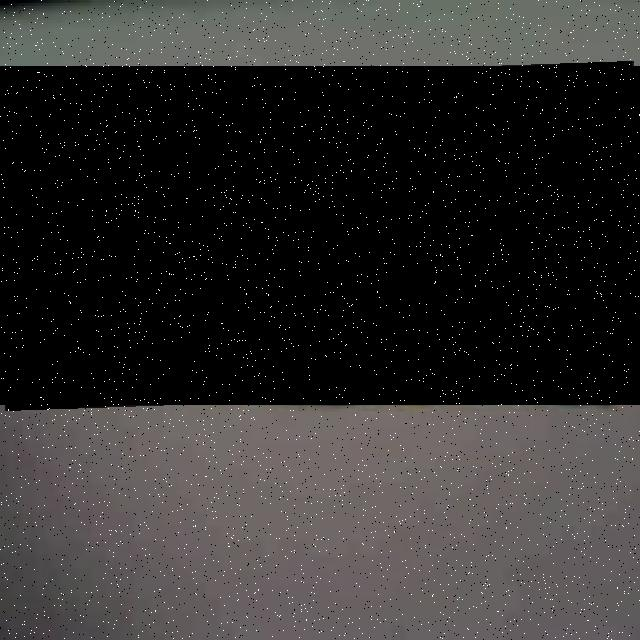dua ribu rupiah: (0, 66, 640, 405)
